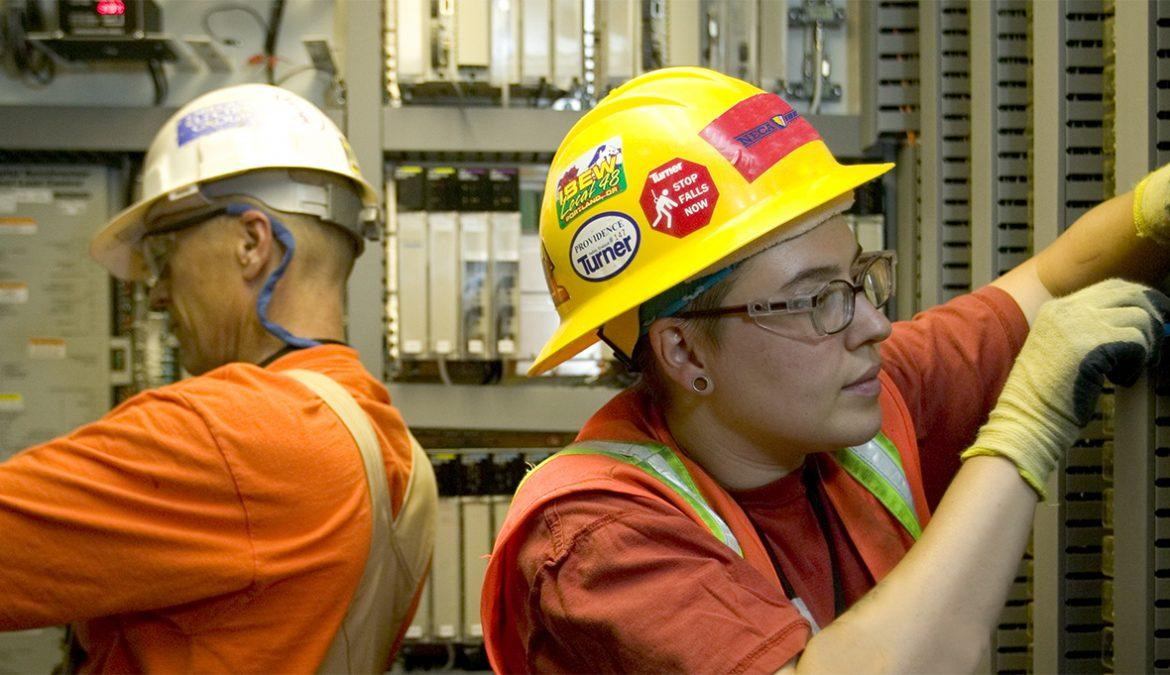helmet: (526, 66, 900, 379), (86, 81, 389, 288)
